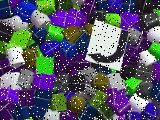Right: (85, 19, 129, 71)
